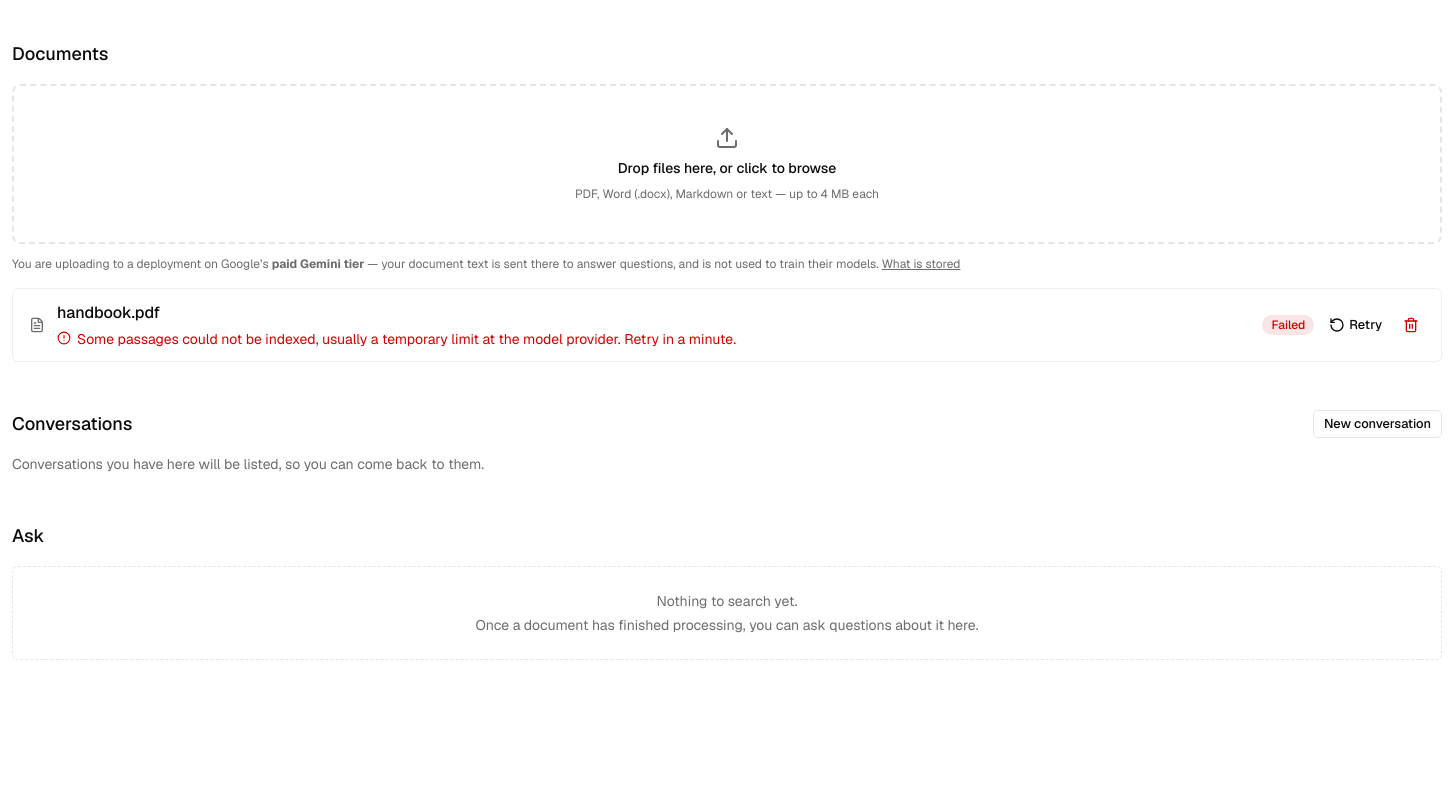
a delete or retry that fails › says nothing was retried when the server cannot be reached
Click the button "Retry" at (1356, 325), box x1=1318 y1=311 x2=1393 y2=339
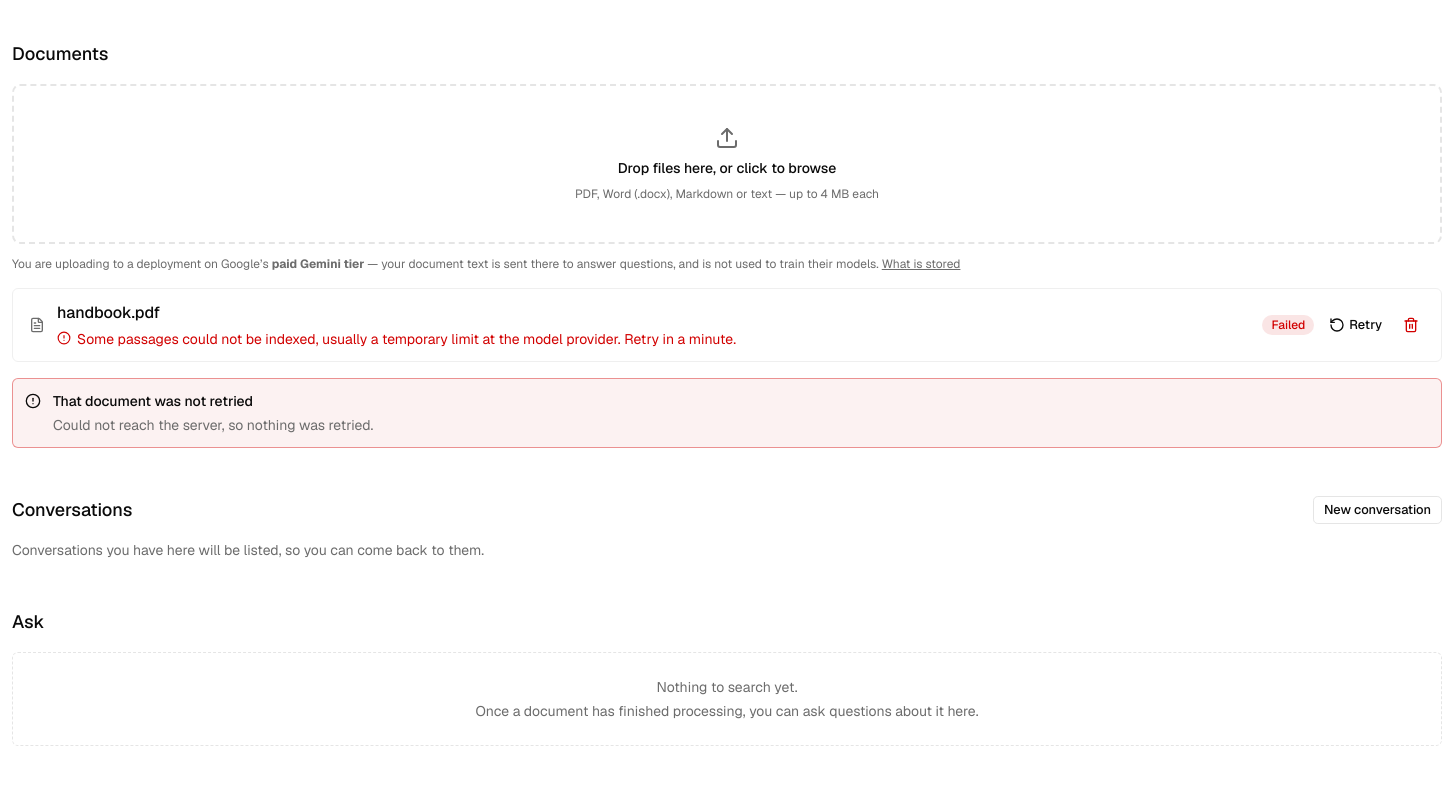
Expected: the text "Could not reach the server, so nothing was retried." is shown, x1=53 y1=416 x2=373 y2=434
